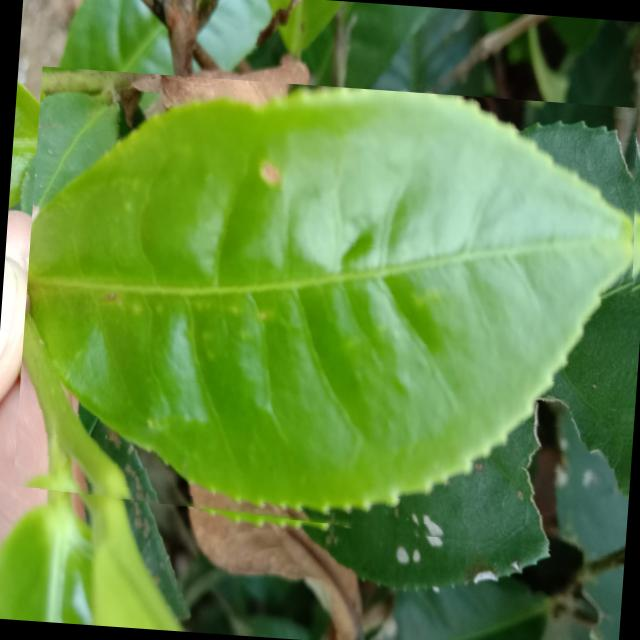Category C(4-7 days): (9, 65, 640, 559)
